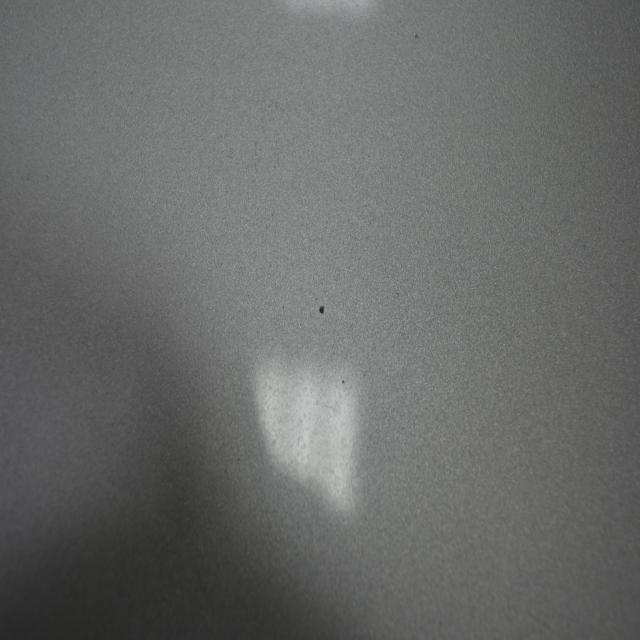dirt: (318, 300, 327, 317), (340, 378, 346, 386), (414, 30, 419, 38)
